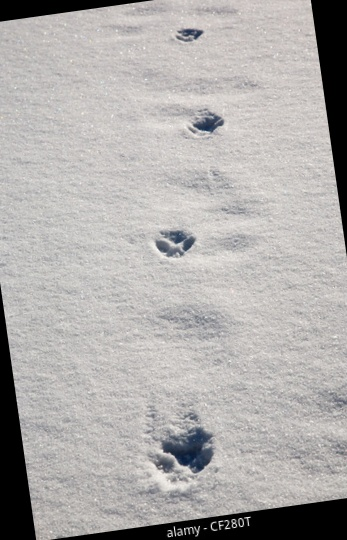fox: (125, 402, 236, 495), (134, 214, 210, 271), (163, 97, 245, 146)
